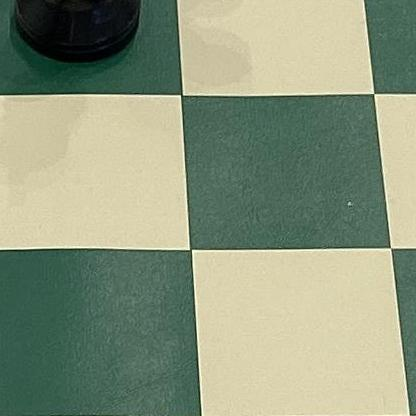black-king: (5, 0, 146, 67)
